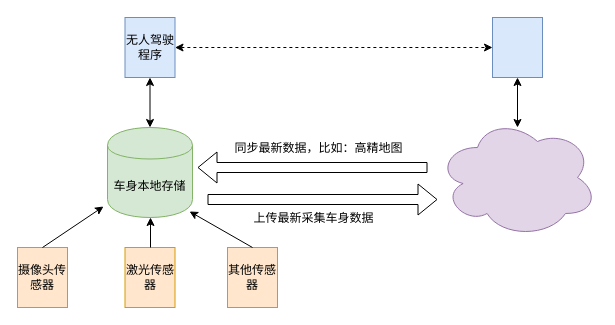
The diagram is 615 pixels wide and 325 high, and some of its shapes have lost their labels. Here are the shapes that lost their labels. From the top down, the box of each, then its label:
(492, 16, 542, 78): 云端处理程序
(436, 116, 598, 238): 分布式云端存储
